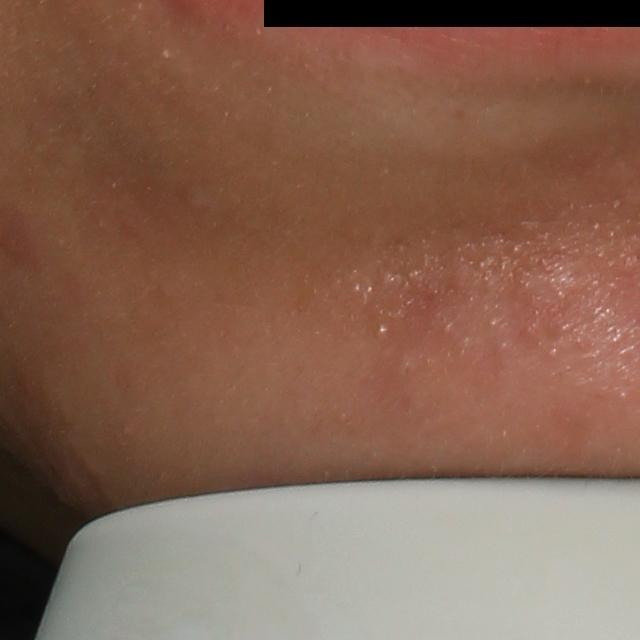comedo: (371, 322, 391, 340)
